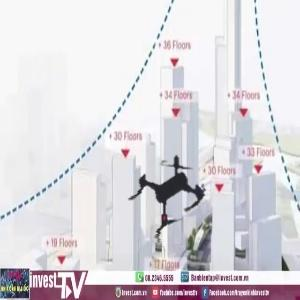drone: (89, 110, 248, 269)
